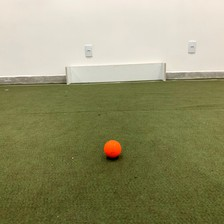ball: (100, 136, 124, 162)
goal: (61, 59, 171, 87)
